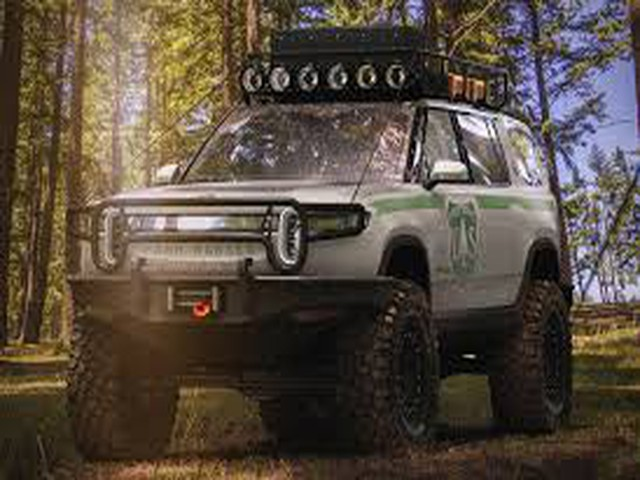Vehicle: (72, 29, 577, 453)
